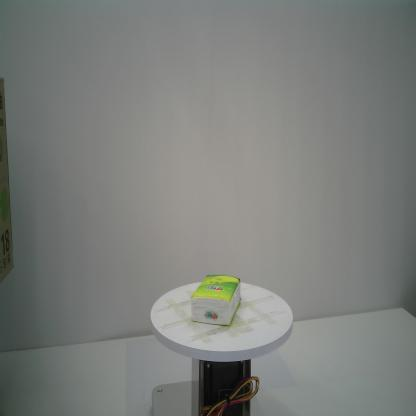Tissue: (188, 272, 243, 326)
